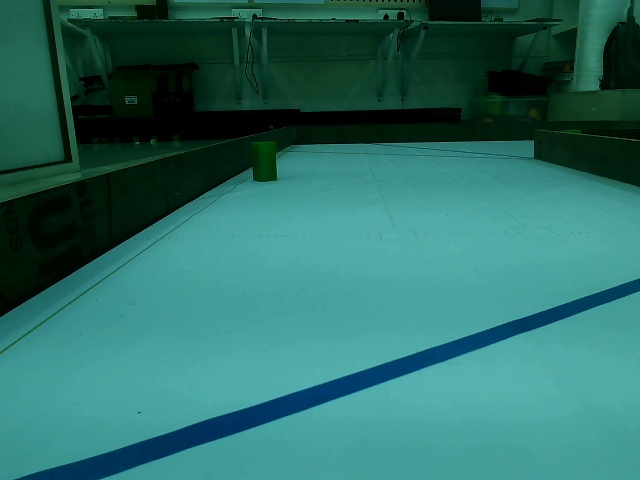green: (250, 141, 279, 182)
